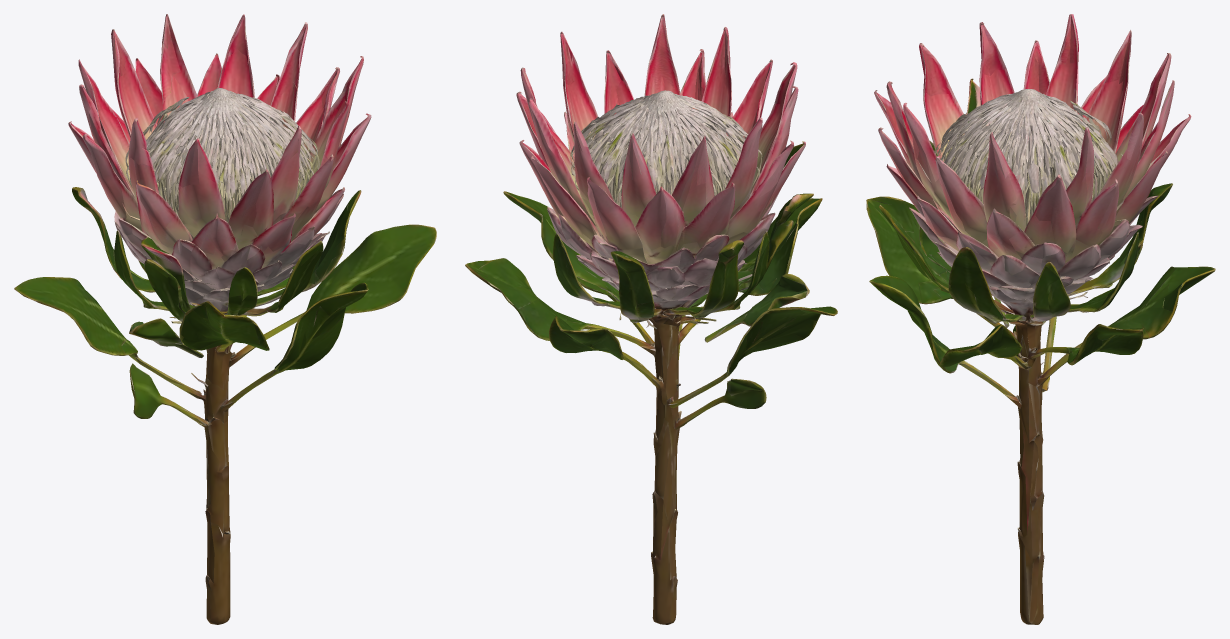
The model's file is protea.glb.
3 renders of one model, left to right at view 1: azimuth 30°, elevation 25°; view 2: azimuth 150°, elevation 25°; view 3: azimuth 270°, elevation 25°, orthographic.
Parts seen in each view (by area): view 1: Mesh_0; view 2: Mesh_0; view 3: Mesh_0.
Part boxes in pixels (left/top/right/bottom): Mesh_0: left=14, top=14, right=436, bottom=624; Mesh_0: left=465, top=14, right=837, bottom=624; Mesh_0: left=866, top=14, right=1215, bottom=624.
Bounding box in the file's own units: 1.37 × 1.91 × 1.09.
1 material, 1 textured.
